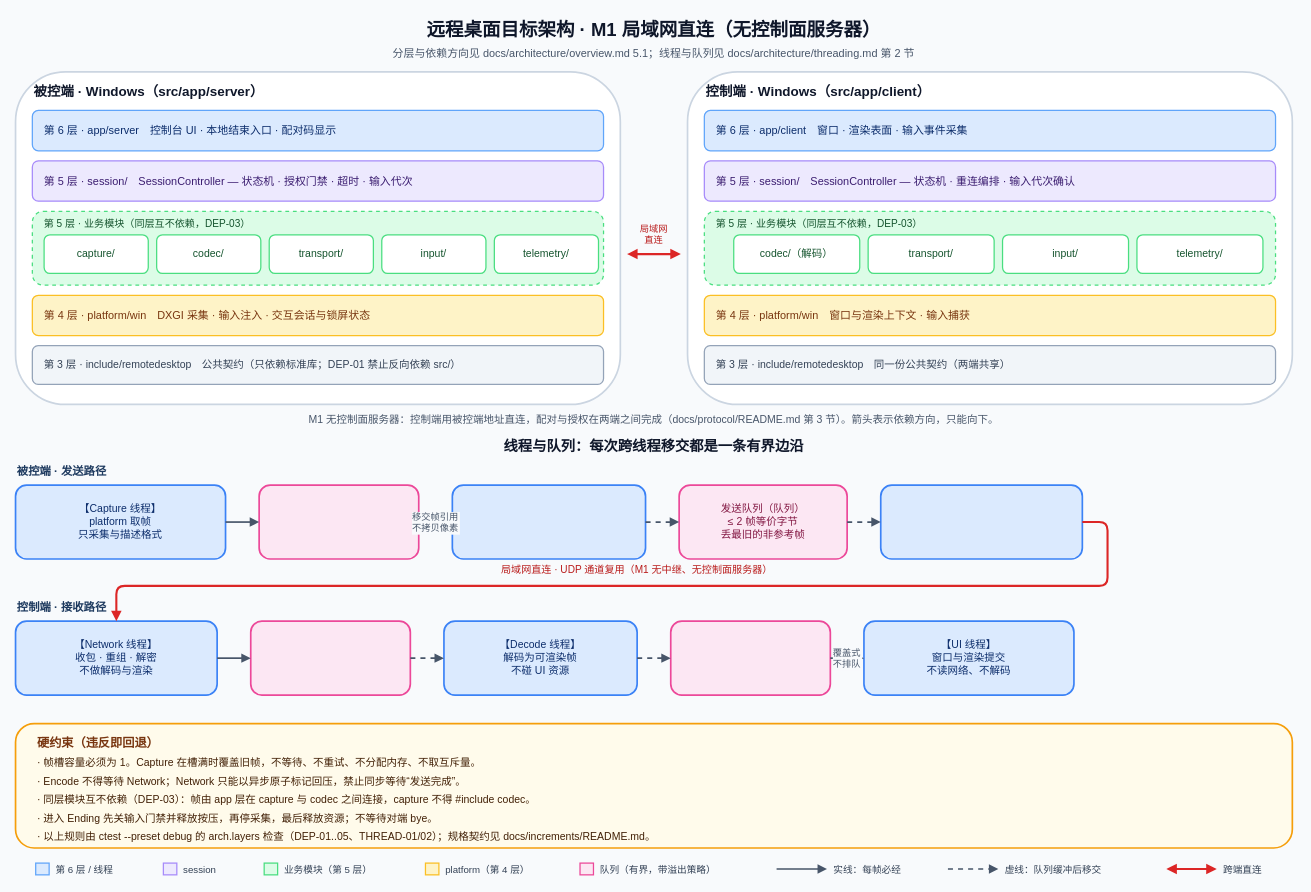
Some shapes in this 1311 by 892 pixel diagram are drawn without their labels. Here are the shapes that lost their labels. From the top down, the box of each, then its label:
(258, 484, 419, 559): 帧槽（队列） 容量 = 1，覆盖式 新帧释放并顶替旧帧
(451, 484, 646, 559): 【Encode 线程】 取帧编码 单帧 ≤ 33 ms 预算
(879, 484, 1083, 559): 【Network 线程】 分片 · 加密 · 保活 只做收发，不编码
(249, 620, 411, 696): 重组缓冲（队列） 分片上限 + 在途帧上限 缺片即丢帧，不等待
(669, 620, 831, 696): 最新帧（队列） 1–2 帧，覆盖式 UI 慢就丢帧
